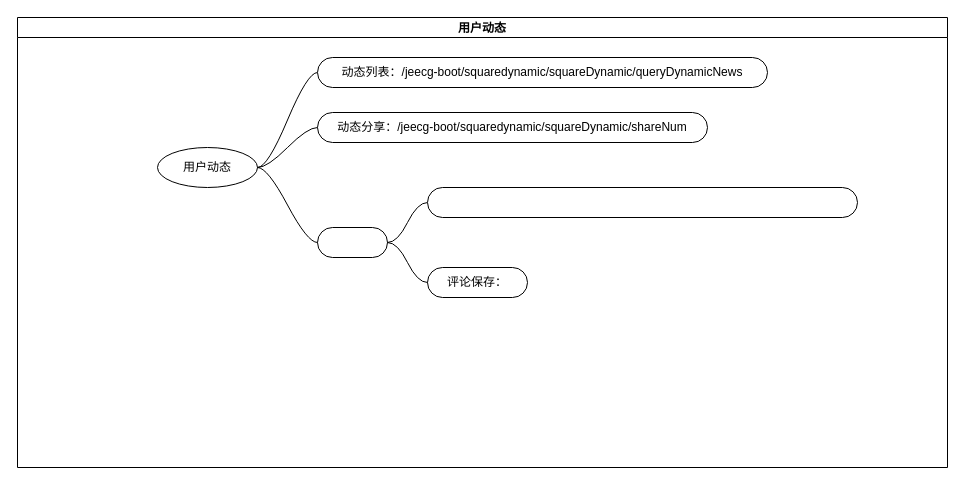
Some shapes in this 965 by 485 pixel diagram are drawn without their labels. The box of each missing label's shape, as (x1, y1, x2, y2) in pixels:
评论: (316, 226, 388, 258)
评论列表：/jeecg-boot/squaredynamic/squareDynamic/getDynamicDetail: (426, 186, 858, 218)
